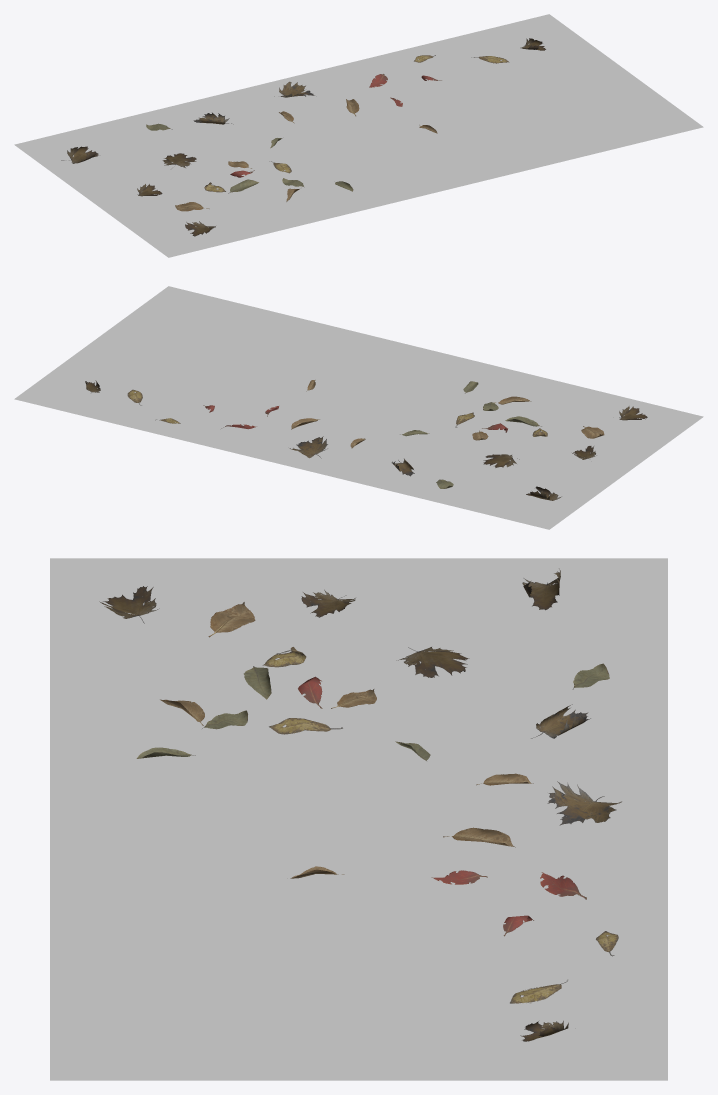
File: Leaves1.FBX
3 renders of one model, top to bottom at view 1: azimuth 30°, elevation 25°; view 2: azimuth 150°, elevation 25°; view 3: azimuth 270°, elevation 25°, orthographic. The views are drawn at different scales.
Visible parts, largest first — view 1: Leaves1_Decal, Leaves1; view 2: Leaves1_Decal, Leaves1; view 3: Leaves1_Decal, Leaves1.
Part boxes in pixels (x1,y1,x2,y2): Leaves1_Decal: (14,14,703,257); Leaves1: (61,38,545,236); Leaves1_Decal: (14,286,703,529); Leaves1: (85,380,647,500); Leaves1_Decal: (50,558,667,1080); Leaves1: (99,568,621,1041).
Size of the model in its own units: 2.2 by 0.0483 by 1.1.
